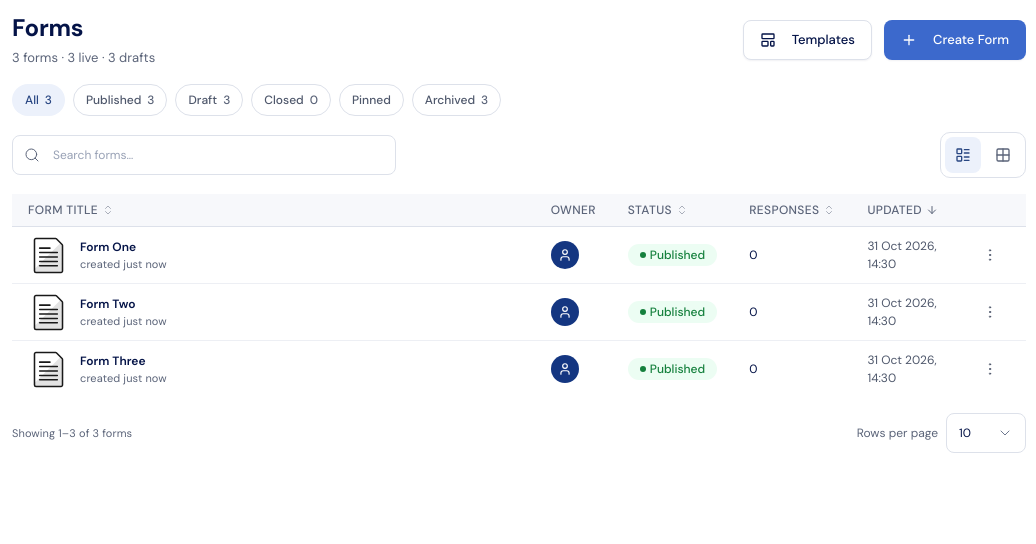
WorkspaceFormsPage — FormsPage rendered with workspace context › bulk selection and delete (task 6.4) › switching tabs clears the current selection
This screenshot has width=1036, height=544.
Double-click the link "Form One".
double_click(108, 247)  # box [80,238,136,256]
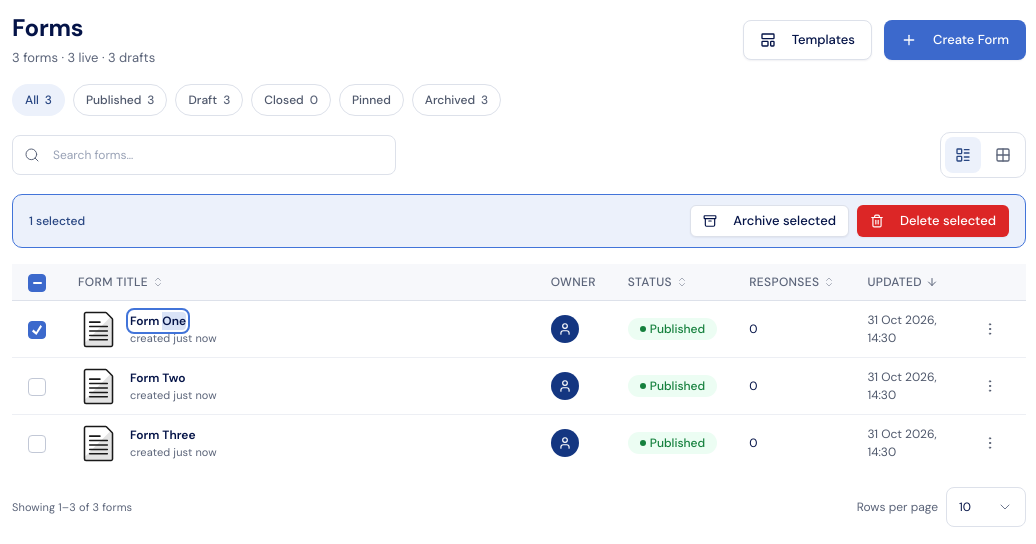
Result: the text "1 selected" is shown at [29,212,85,230]
Click the button "Draft 3".
click(209, 100)  # box [176,84,243,116]
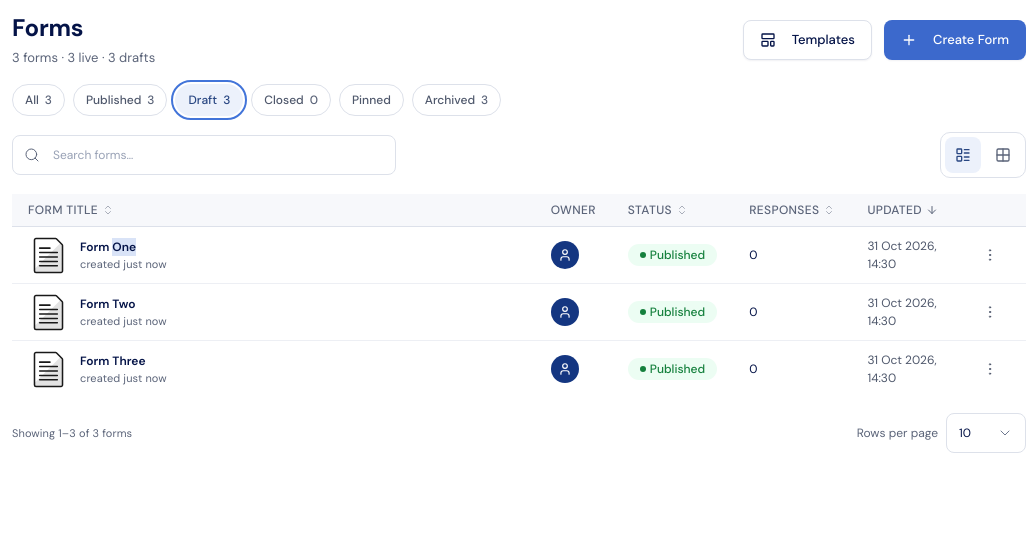
Result: the text "selected" is gone
